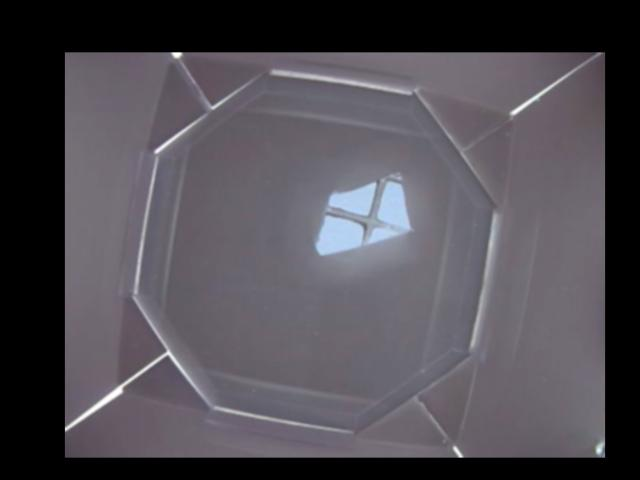China: (313, 170, 411, 256)
